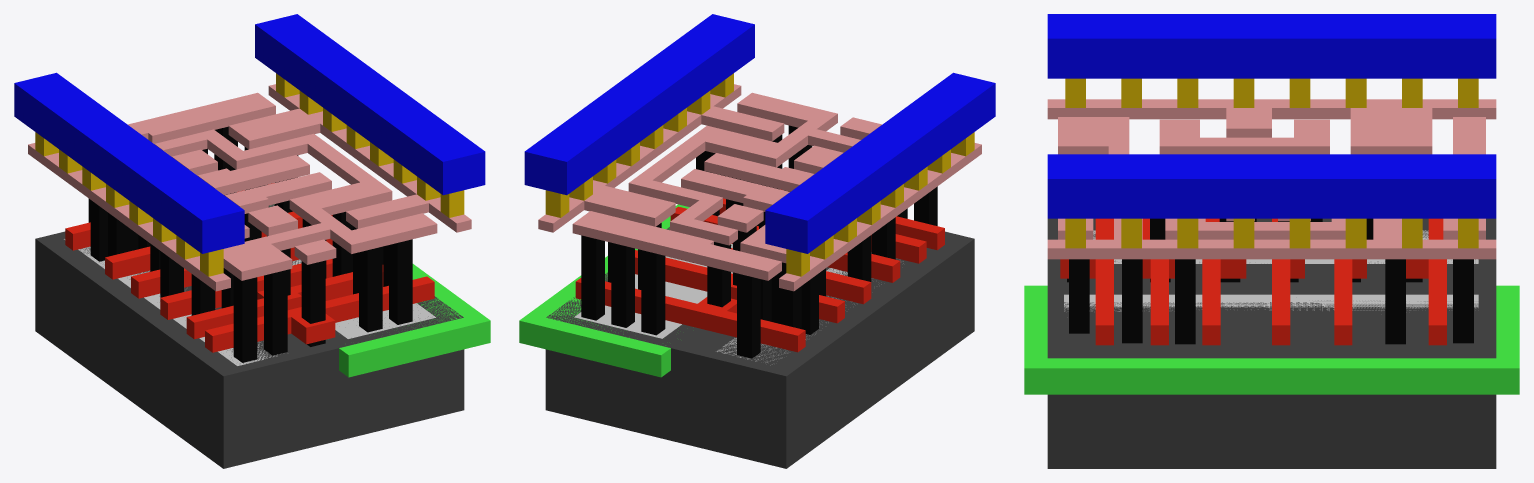
Rendered from sky130_fd_sc_hd__o311a_1.obj.
The picture shows the model from 3 angles, left to right: view 1: azimuth 30°, elevation 25°; view 2: azimuth 150°, elevation 25°; view 3: azimuth 270°, elevation 25°; orthographic projection. The views are drawn at different scales.
Parts seen in each view (by area): view 1: subs, li, metal1, licon, poly, nwell, mcon, tap, diff; view 2: subs, li, metal1, licon, poly, nwell, mcon, tap; view 3: metal1, subs, li, nwell, poly, mcon, licon, tap, diff.
Part boxes in pixels (x1,y1,x2,y2): subs: (35, 204, 464, 468); li: (28, 84, 471, 291); metal1: (14, 14, 485, 253); licon: (88, 126, 412, 362); poly: (65, 183, 434, 352); nwell: (339, 264, 490, 377); mcon: (35, 73, 464, 276); tap: (270, 205, 435, 338); diff: (64, 239, 277, 365); subs: (545, 227, 974, 468); li: (538, 84, 981, 291); metal1: (524, 14, 995, 253); licon: (581, 125, 937, 358); poly: (575, 189, 944, 352); nwell: (519, 204, 689, 377); mcon: (545, 73, 974, 276); tap: (574, 244, 732, 338); metal1: (1047, 14, 1496, 218); subs: (1047, 218, 1496, 468); li: (1047, 99, 1496, 259); nwell: (1024, 285, 1519, 394); poly: (1060, 218, 1446, 345); mcon: (1065, 78, 1478, 248); licon: (1067, 218, 1473, 344); tap: (1064, 294, 1478, 311); diff: (1093, 230, 1478, 263).
Bounding box in the file's own units: 3.2 × 2.74 × 4.06.
